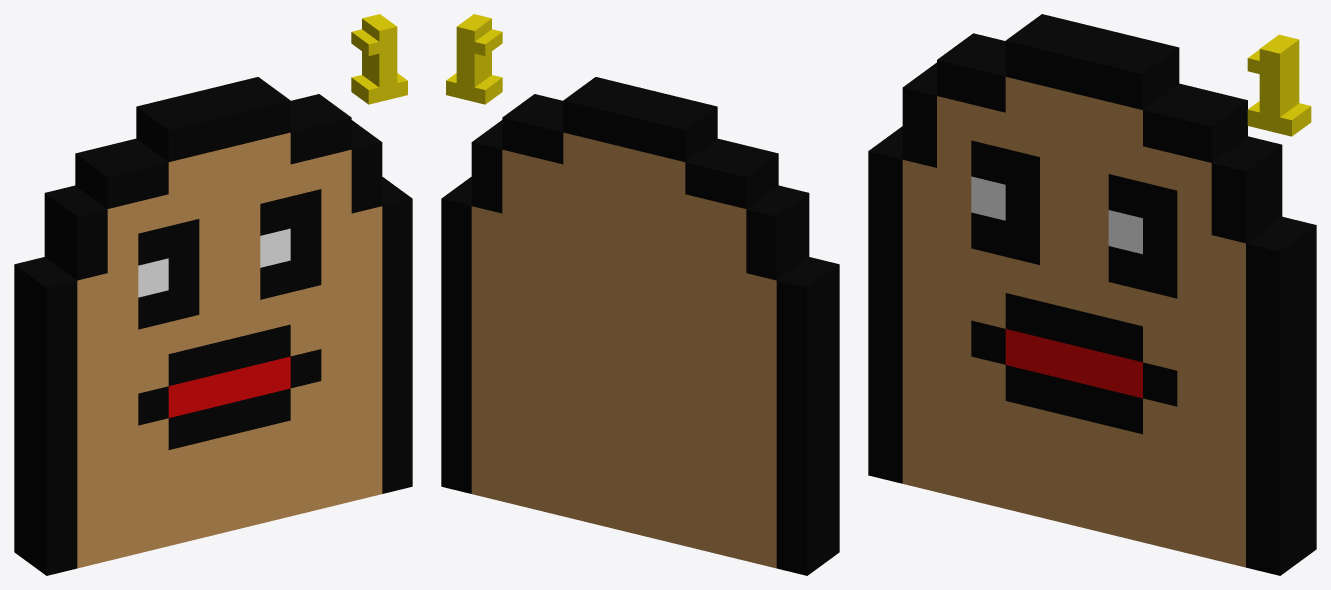
File: MinigameTrigger12.fbx
The picture shows the model from 3 angles, left to right: view 1: azimuth 30°, elevation 25°; view 2: azimuth 150°, elevation 25°; view 3: azimuth 330°, elevation 25°; orthographic projection. The views are drawn at different scales.
Parts seen in each view (by area): view 1: 큐브.002; view 2: 큐브.002; view 3: 큐브.002.
Part boxes in pixels (x1,y1,x2,y2): 큐브.002: [14, 14, 412, 575]; 큐브.002: [441, 14, 839, 575]; 큐브.002: [868, 14, 1316, 575].
Size of the model in its own units: 378 by 447 by 57.54.
